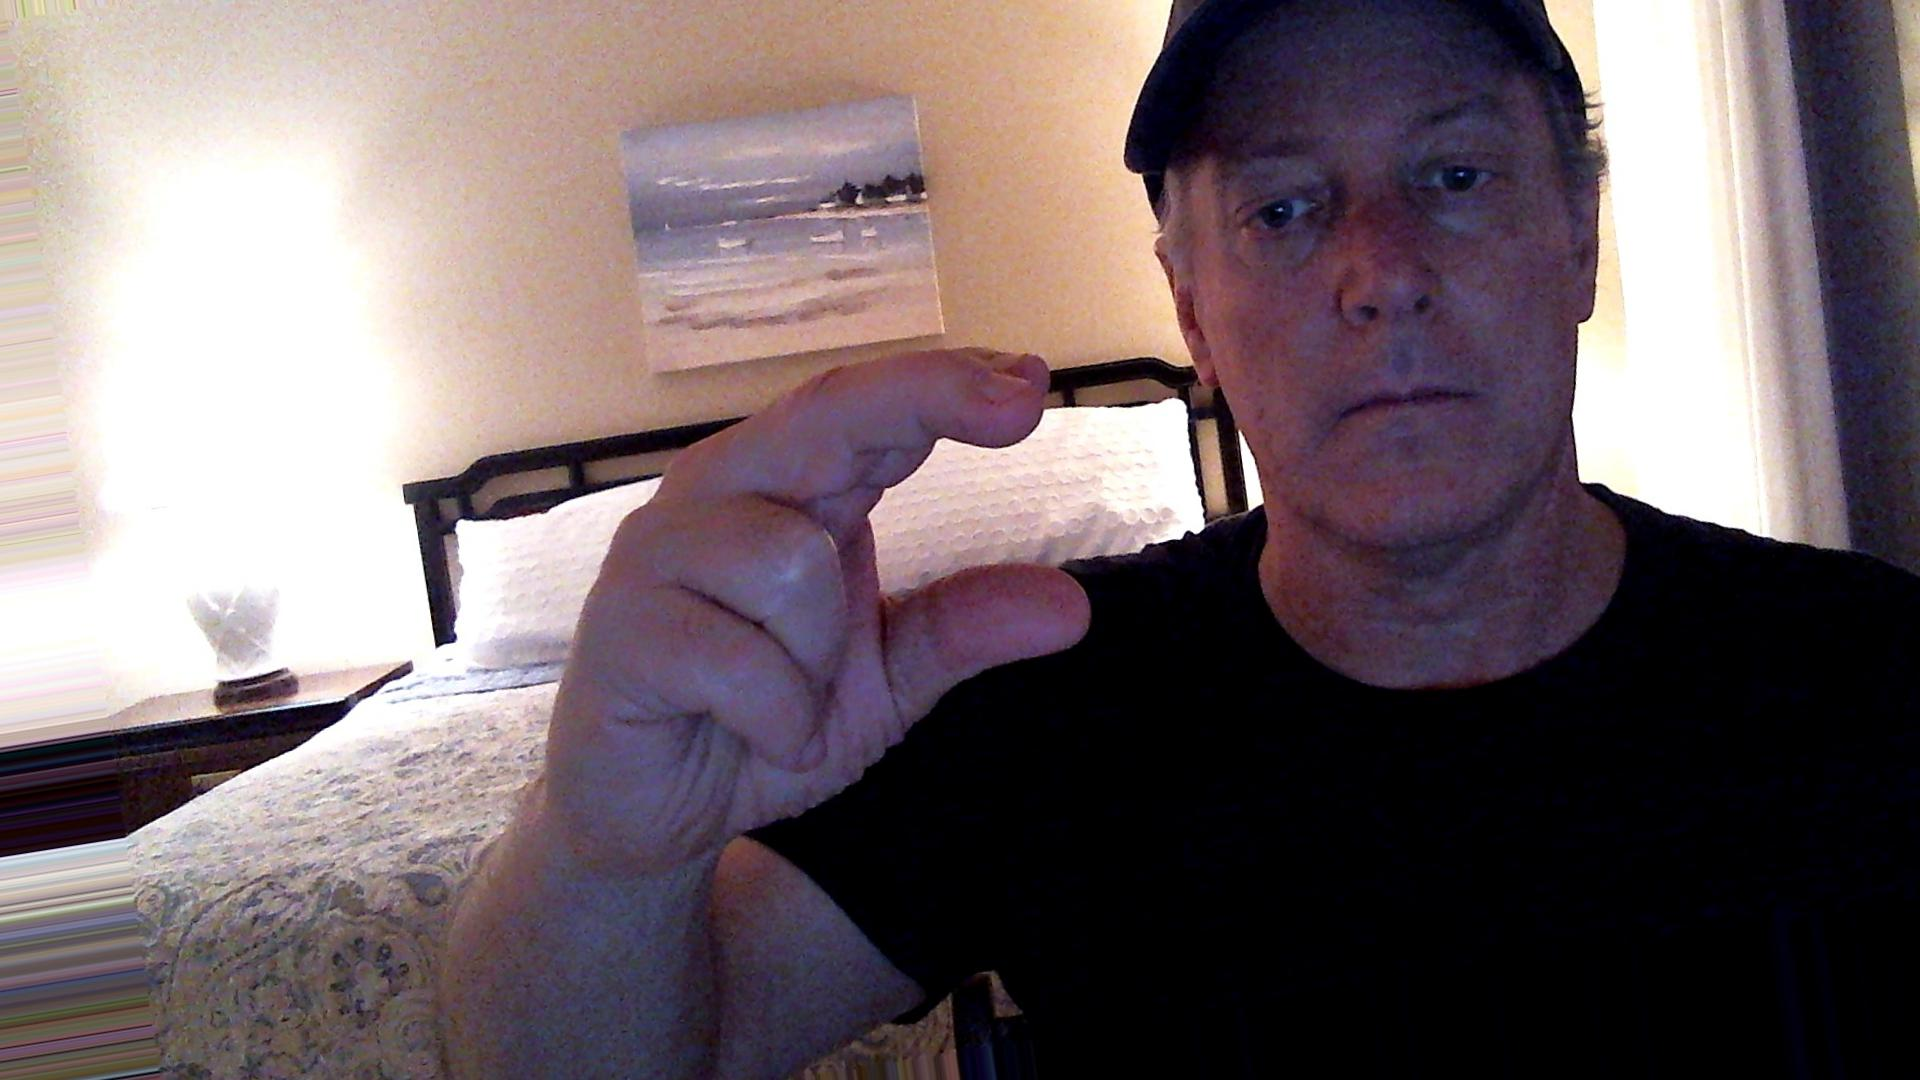No: (533, 334, 1121, 878)
